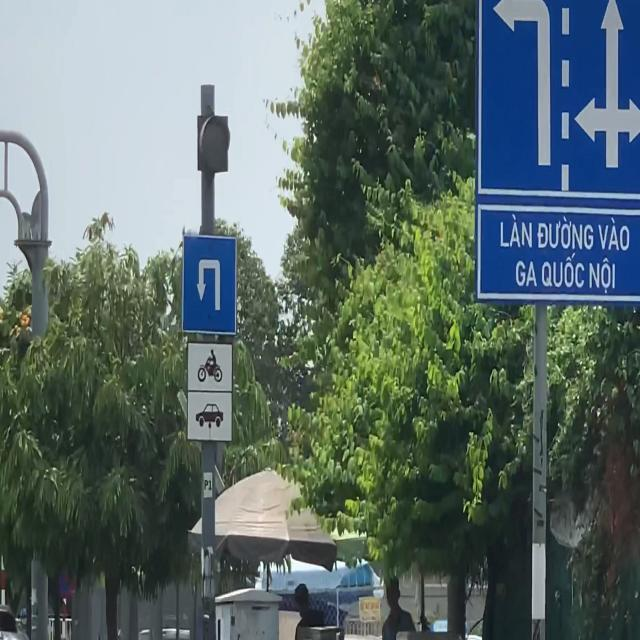Chi dan: (180, 232, 239, 332)
